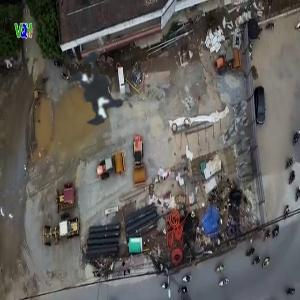drone: (27, 19, 170, 162)
